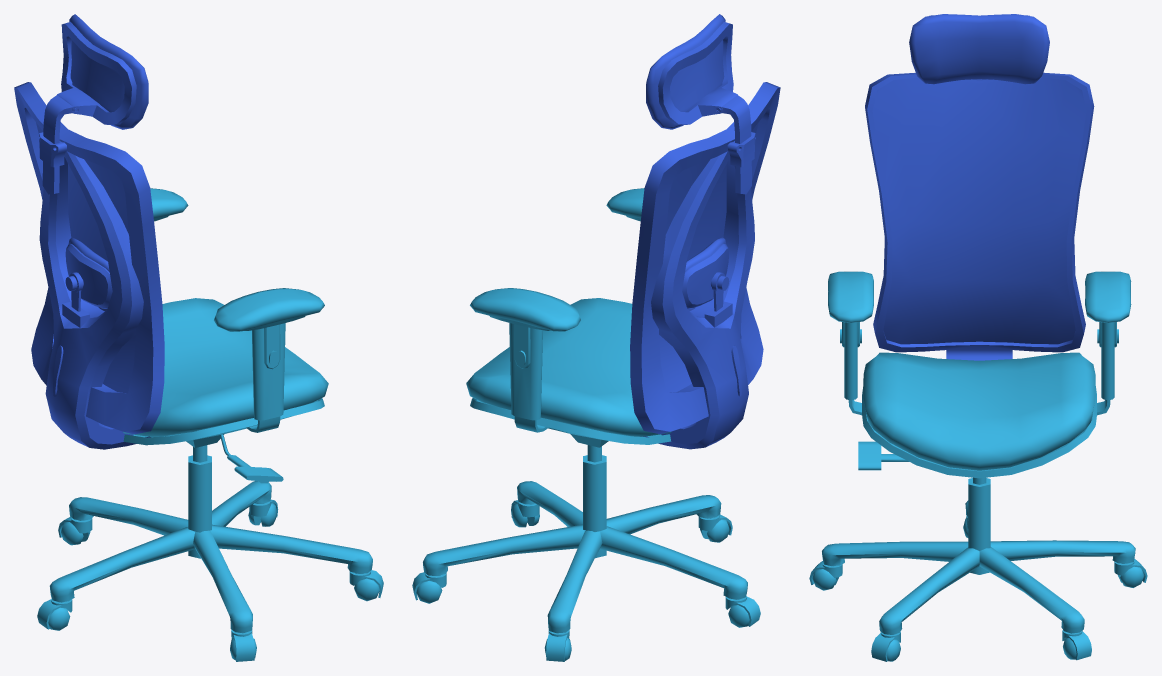
The model's file is bureaustoel LP.fbx.
3 views of the same model, side by side, from view 1: azimuth 30°, elevation 25°; view 2: azimuth 150°, elevation 25°; view 3: azimuth 270°, elevation 25° (orthographic). The views are drawn at different scales.
Visible parts, largest first — view 1: 20_Low, 3_Low, 6_Low, 26_Low, 1_Low, 2_Low, 19_Low, 11_Low, 17_Low, 16_Low, 7_Low, 14_Low (+4 smaller); view 2: 20_Low, 3_Low, 6_Low, 26_Low, 1_Low, 2_Low, 19_Low, 11_Low, 17_Low, 16_Low, 7_Low, 14_Low (+3 smaller); view 3: 2_Low, 3_Low, 6_Low, 1_Low, 20_Low, 26_Low, 12_Low, 11_Low, 17_Low, 16_Low, 7_Low, 22_Low.
Boxes of the visible parts, x1,y1,x2,y2 form: 20_Low: [14, 82, 164, 449]; 3_Low: [123, 298, 328, 437]; 6_Low: [49, 481, 372, 632]; 26_Low: [150, 188, 324, 331]; 1_Low: [69, 14, 148, 129]; 2_Low: [36, 122, 135, 393]; 19_Low: [57, 22, 136, 124]; 11_Low: [154, 215, 305, 420]; 17_Low: [37, 499, 383, 661]; 16_Low: [188, 455, 211, 558]; 7_Low: [48, 503, 379, 660]; 14_Low: [65, 244, 112, 307]; 20_Low: [630, 82, 780, 449]; 3_Low: [466, 298, 671, 436]; 6_Low: [423, 481, 747, 633]; 26_Low: [470, 188, 644, 331]; 1_Low: [646, 14, 725, 129]; 2_Low: [659, 122, 758, 392]; 19_Low: [658, 22, 737, 124]; 11_Low: [489, 215, 640, 420]; 17_Low: [412, 500, 760, 661]; 16_Low: [583, 455, 606, 558]; 7_Low: [416, 503, 749, 660]; 14_Low: [682, 243, 728, 307]; 2_Low: [872, 77, 1086, 344]; 3_Low: [863, 352, 1095, 470]; 6_Low: [822, 500, 1135, 634]; 1_Low: [909, 14, 1049, 84]; 20_Low: [865, 72, 1094, 360]; 26_Low: [828, 271, 1131, 322]; 12_Low: [862, 386, 1096, 478]; 11_Low: [842, 322, 1116, 400]; 17_Low: [809, 515, 1147, 661]; 16_Low: [968, 478, 990, 574]; 7_Low: [812, 518, 1144, 661]; 22_Low: [858, 441, 909, 470].
Size of the model in its own units: 163 by 308 by 173.
